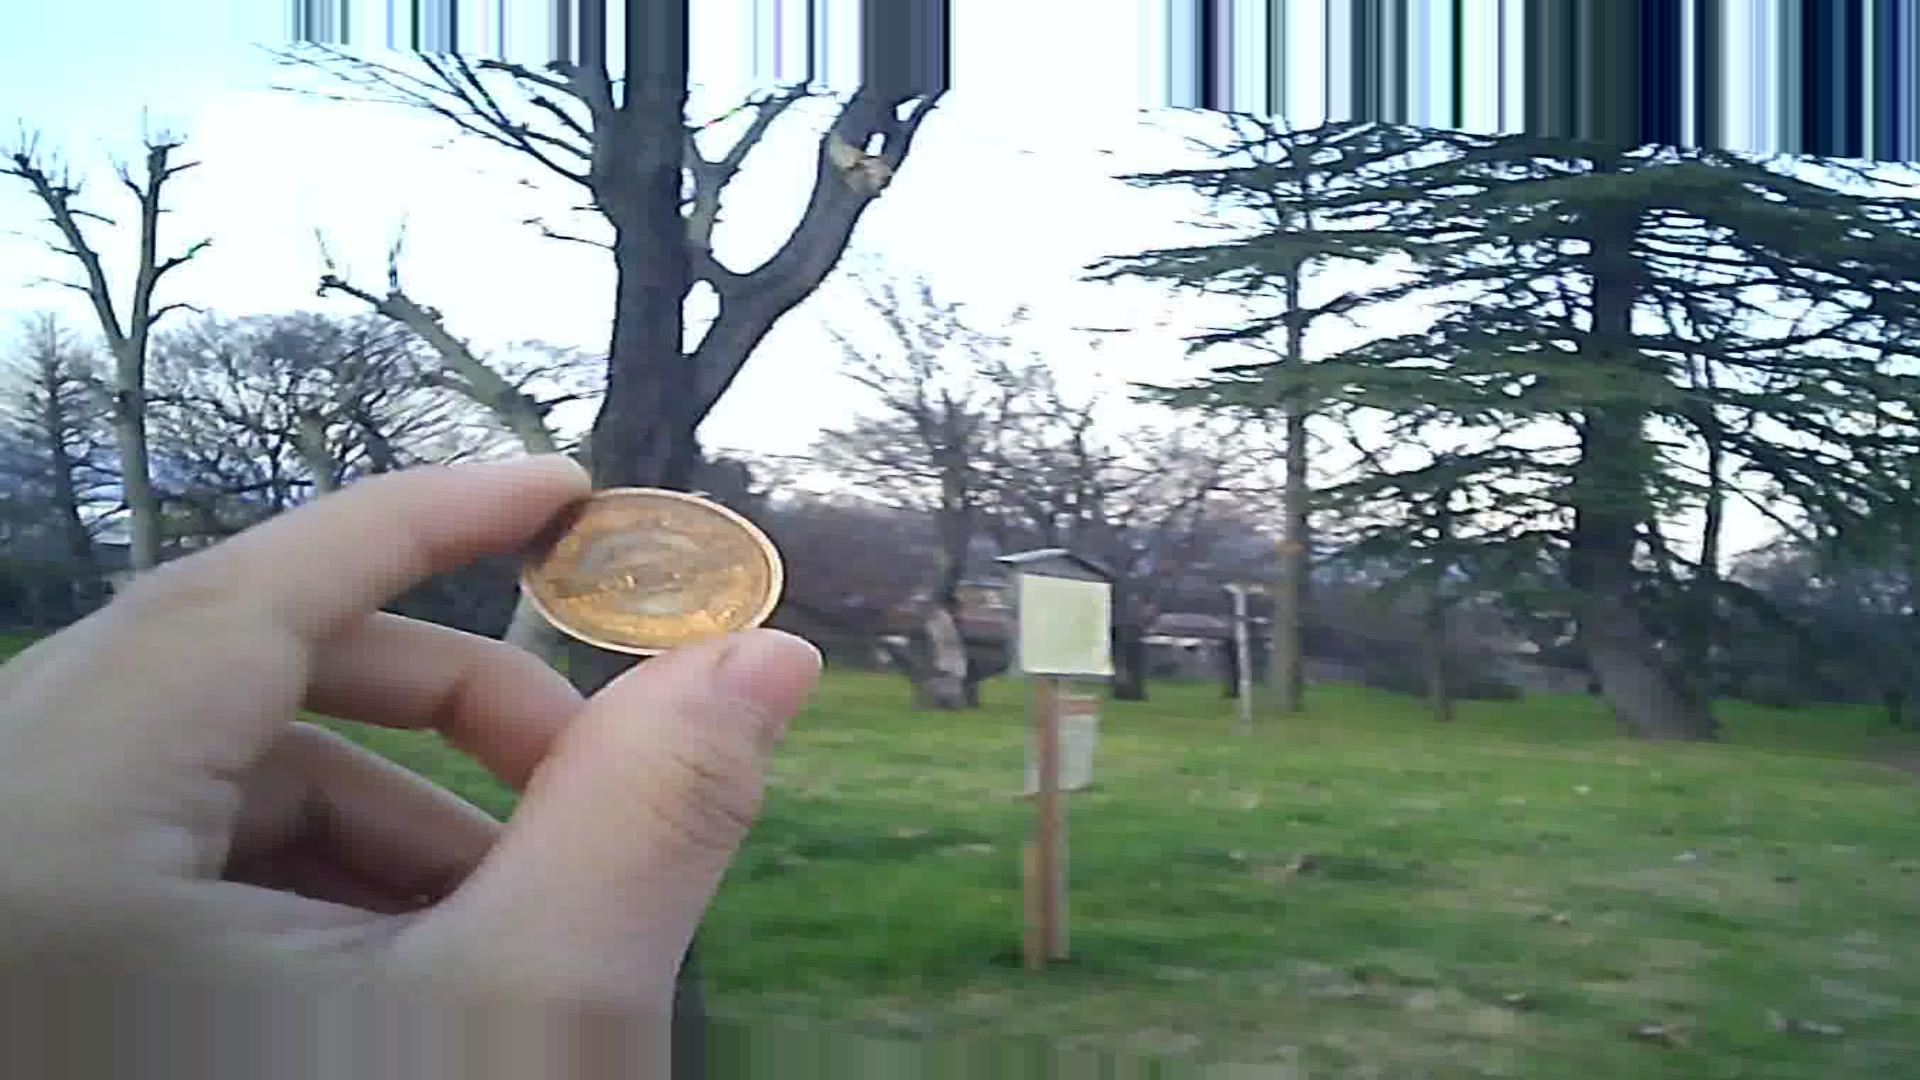10 Yen: (517, 480, 790, 665)
